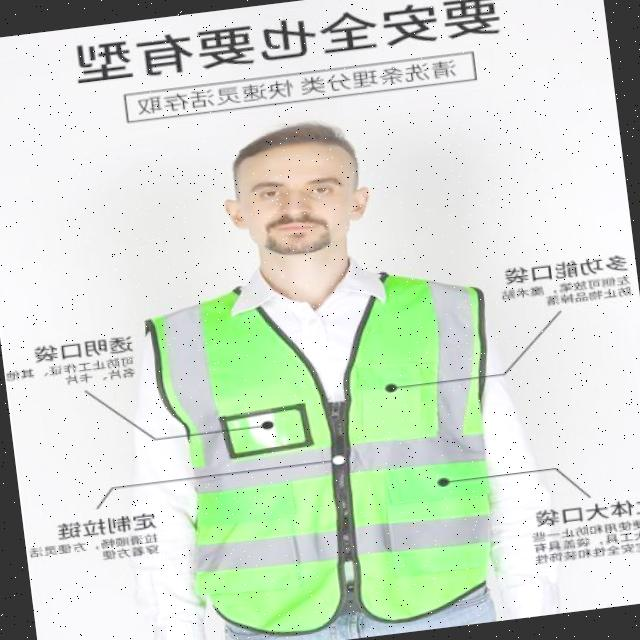vest: (143, 263, 526, 635)
